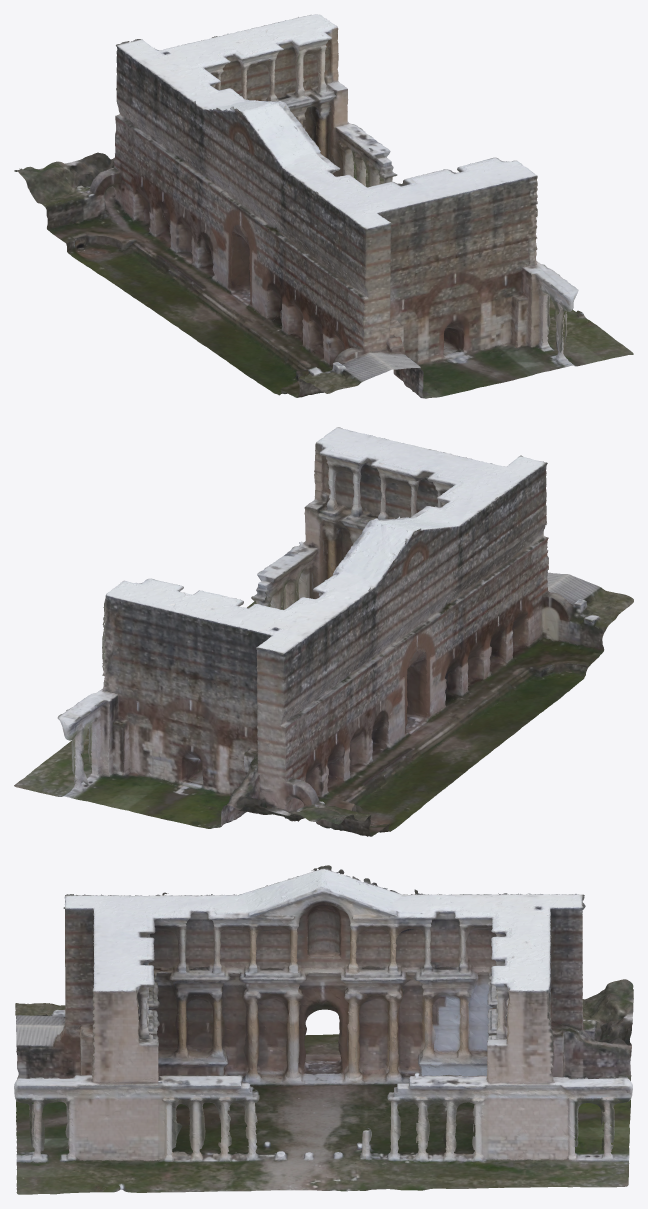
Rendered from gymnasium.glb.
3 renders of one model, top to bottom at view 1: azimuth 30°, elevation 25°; view 2: azimuth 150°, elevation 25°; view 3: azimuth 270°, elevation 25°, orthographic. The views are drawn at different scales.
Parts seen in each view (by area): view 1: Object_2; view 2: Object_2; view 3: Object_2.
Boxes of the visible parts, x1=… form: Object_2: x1=14, y1=14, x2=633, y2=398; Object_2: x1=14, y1=427, x2=633, y2=836; Object_2: x1=14, y1=865, x2=633, y2=1194.
Size of the model in its own units: 14.73 by 8.69 by 23.42.
Materials: 1 (1 with a texture image).
